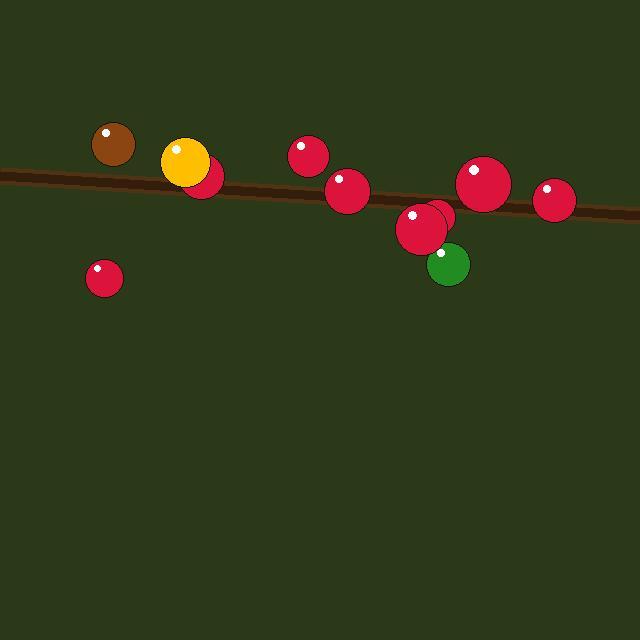Overripe: (91, 122, 135, 166)
Ripe: (455, 156, 511, 212), (395, 203, 447, 255), (178, 153, 224, 199), (324, 168, 370, 214), (532, 178, 576, 222), (287, 135, 329, 177), (85, 259, 123, 297), (419, 199, 455, 235)
Ripening: (160, 137, 210, 187)
Unripe: (426, 242, 470, 286)
